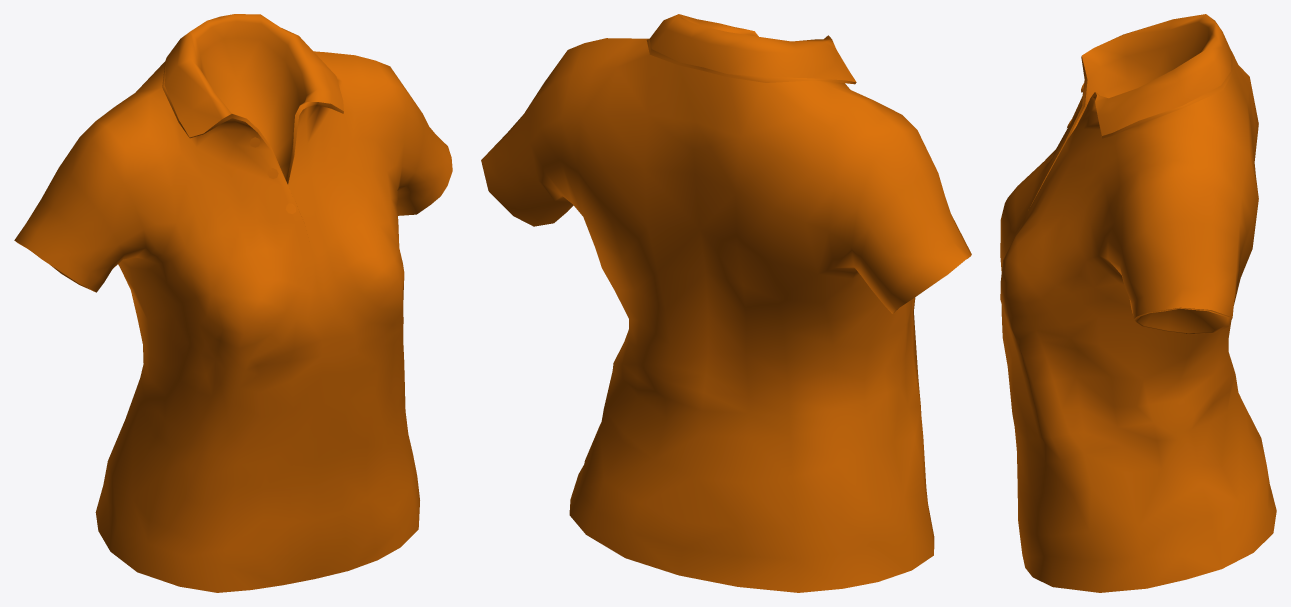
The picture shows the model from 3 angles, left to right: view 1: azimuth 30°, elevation 25°; view 2: azimuth 150°, elevation 25°; view 3: azimuth 270°, elevation 25°; orthographic projection. The views are drawn at different scales.
Parts seen in each view (by area): view 1: hash_4D049B3F.model; view 2: hash_4D049B3F.model; view 3: hash_4D049B3F.model.
Part boxes in pixels (x1,y1,x2,y2): hash_4D049B3F.model: [14, 14, 452, 592]; hash_4D049B3F.model: [481, 14, 971, 592]; hash_4D049B3F.model: [1000, 14, 1276, 592].
Bounding box in the file's own units: 0.5869 × 0.6602 × 0.3247.
